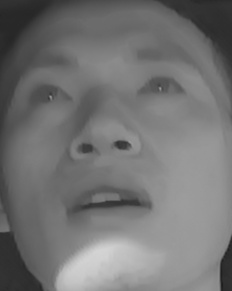eye: (133, 65, 188, 103), (20, 76, 76, 111)
mouth: (56, 168, 154, 226)
